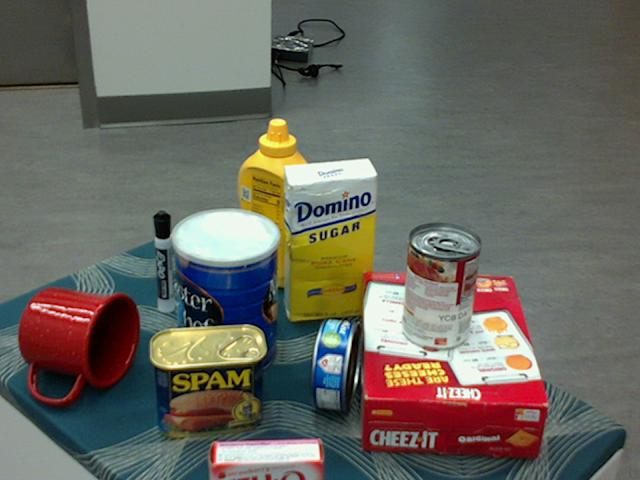cracker_box: (357, 274, 549, 454)
gelatin_box: (206, 438, 320, 479)
large_marker: (153, 209, 172, 312)
master_chef_can: (172, 208, 280, 382)
mug: (18, 286, 139, 403)
mustard_bottle: (237, 118, 316, 289)
potted_meat_can: (149, 324, 266, 436)
sugar_box: (283, 160, 377, 322)
tomato_soup_can: (400, 224, 481, 351)
tuna_fish_can: (311, 319, 361, 412)
